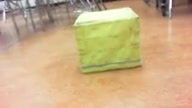cube: (72, 6, 141, 73)
